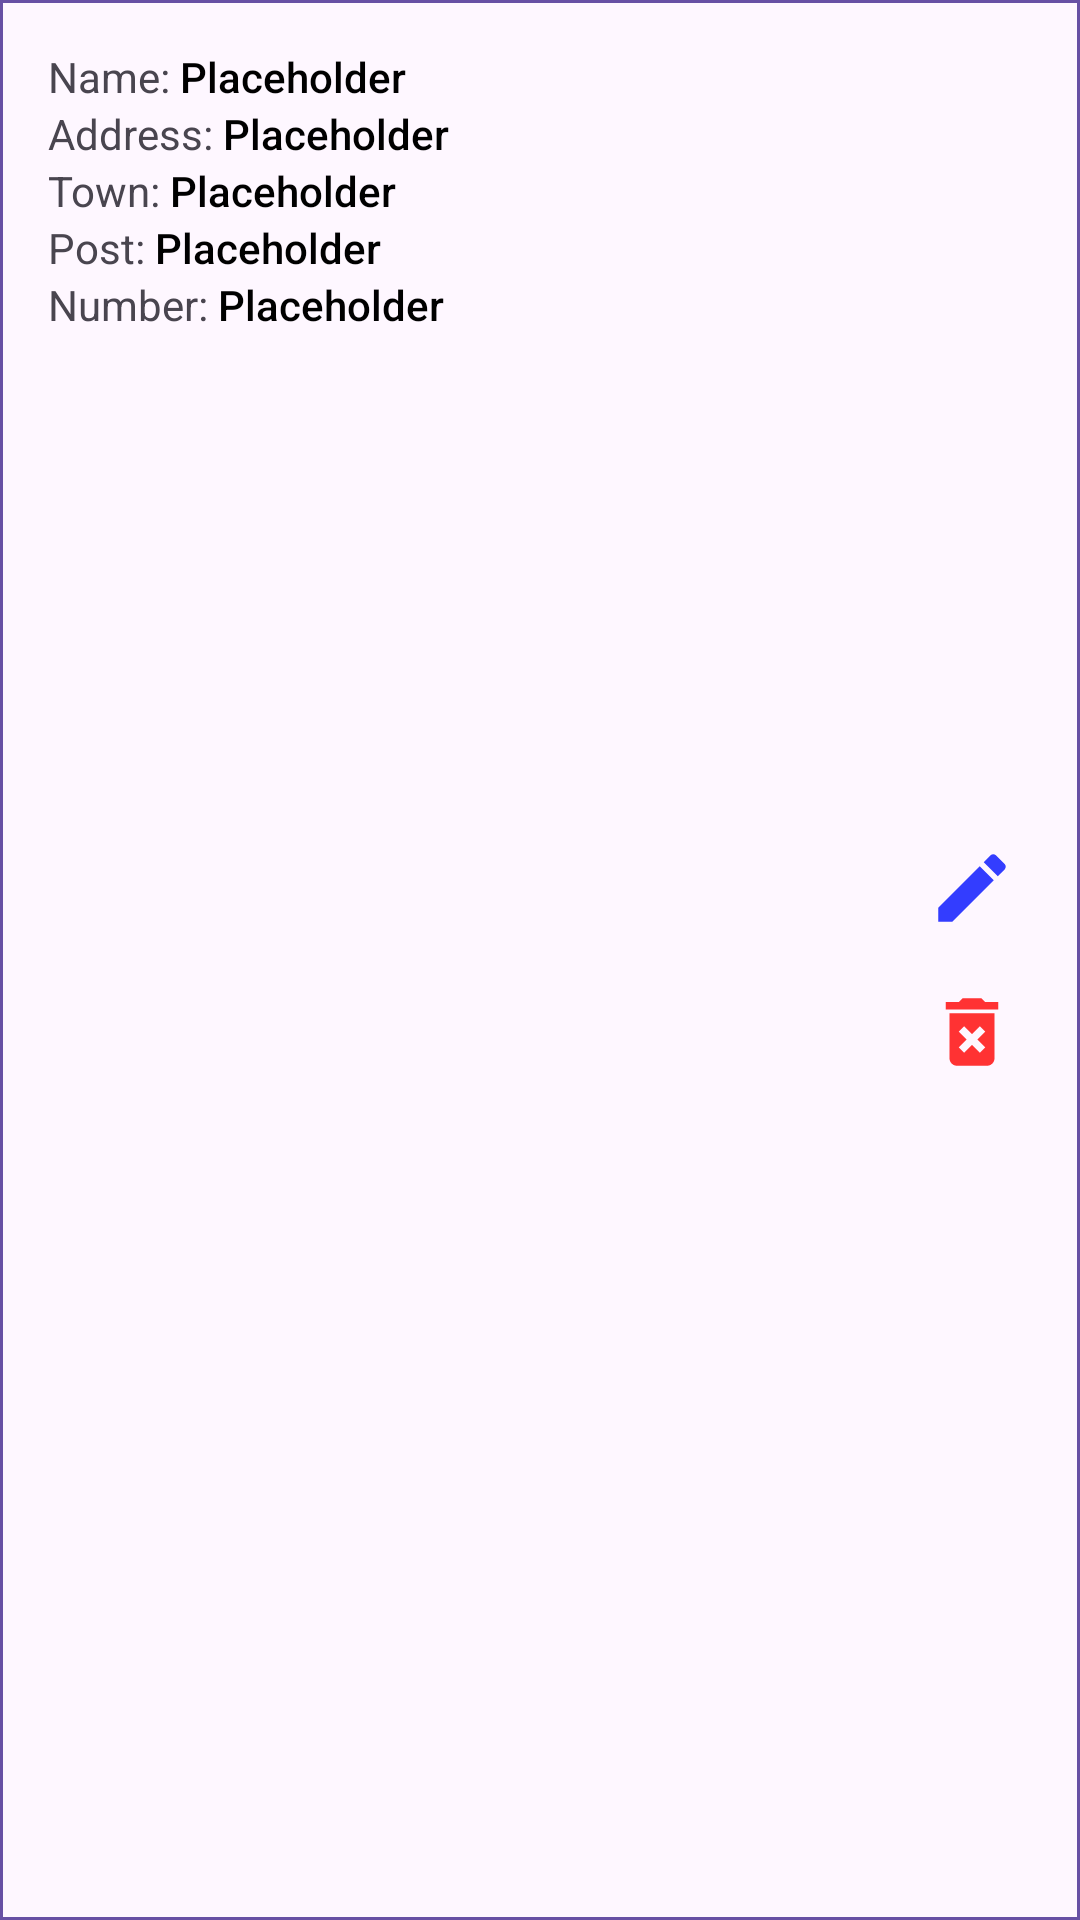

Named icons in this screenshot (1080px x 1920px) and their bounding boxes, bbox=[x1, y1, x2, y2]:
Delete Button: bbox=[945, 998, 999, 1066]
Edit Button: bbox=[938, 854, 1006, 922]
